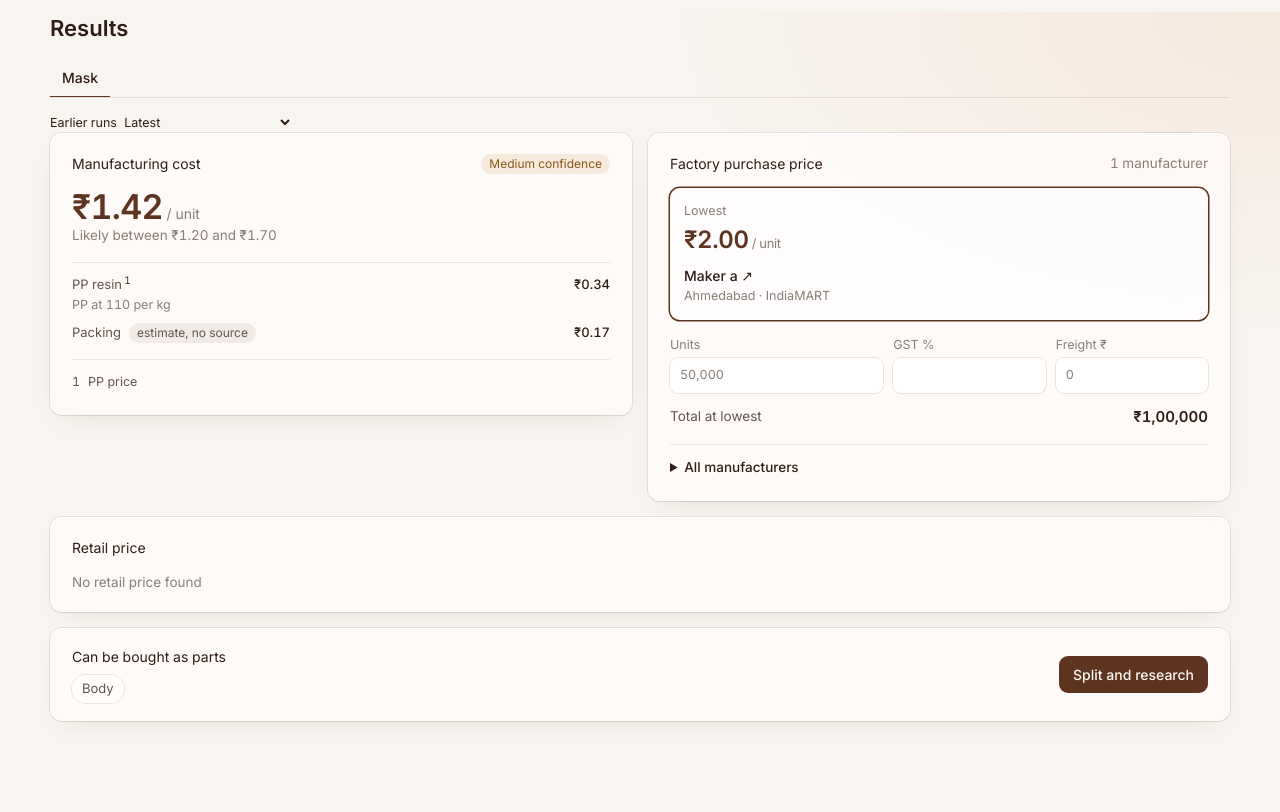
Test: ResultsStep earlier runs › select loads an earlier run read-only; Back to latest returns
This screenshot has width=1280, height=812.
Expected: the button "Split and research" is shown, left=1059, top=656, right=1208, bottom=692
Select "25 Oct, 10:00 am (Failed)" in the dropdown labelled "Earlier runs" at (207, 122), box left=120, top=114, right=293, bottom=131
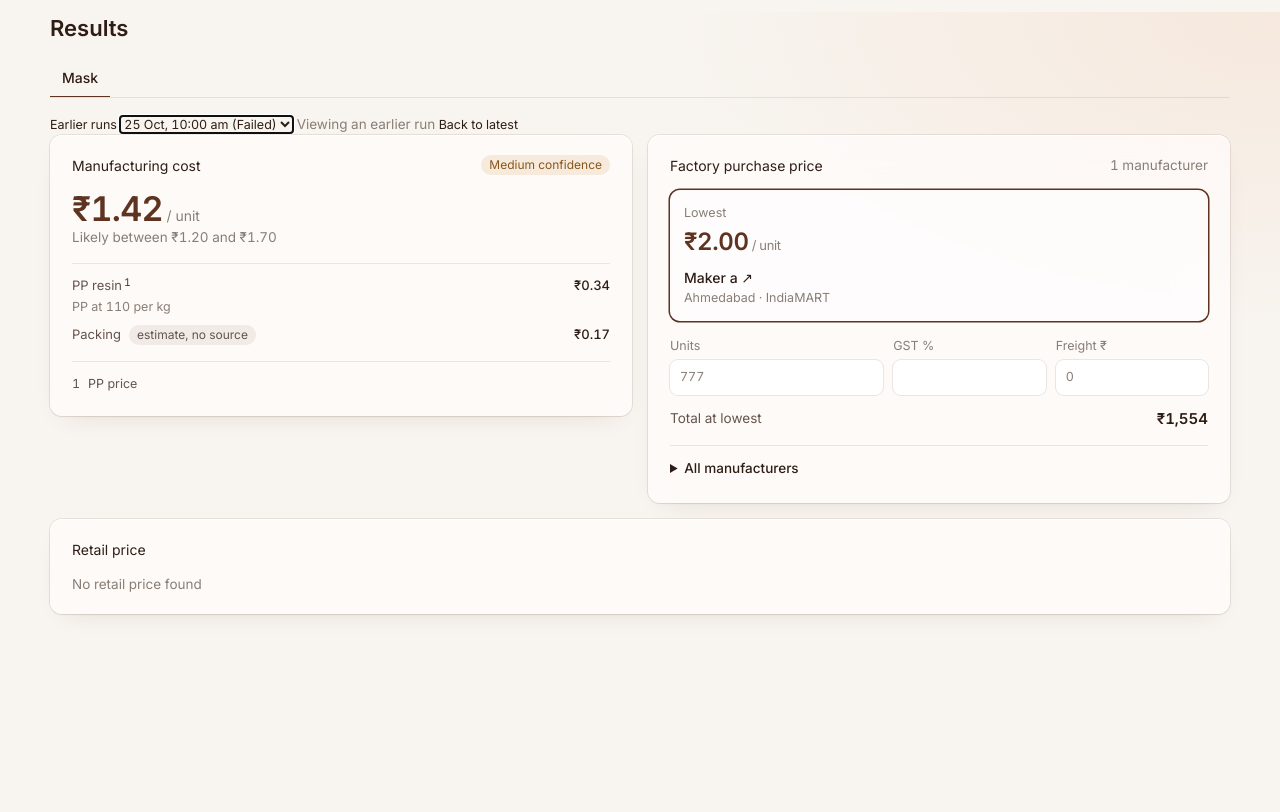
Expected: the text "Viewing an earlier run" is shown, left=297, top=116, right=435, bottom=132
Expected: the button "Split and research" is gone
Click the link "Back to latest" at (478, 124), box left=439, top=117, right=518, bottom=132
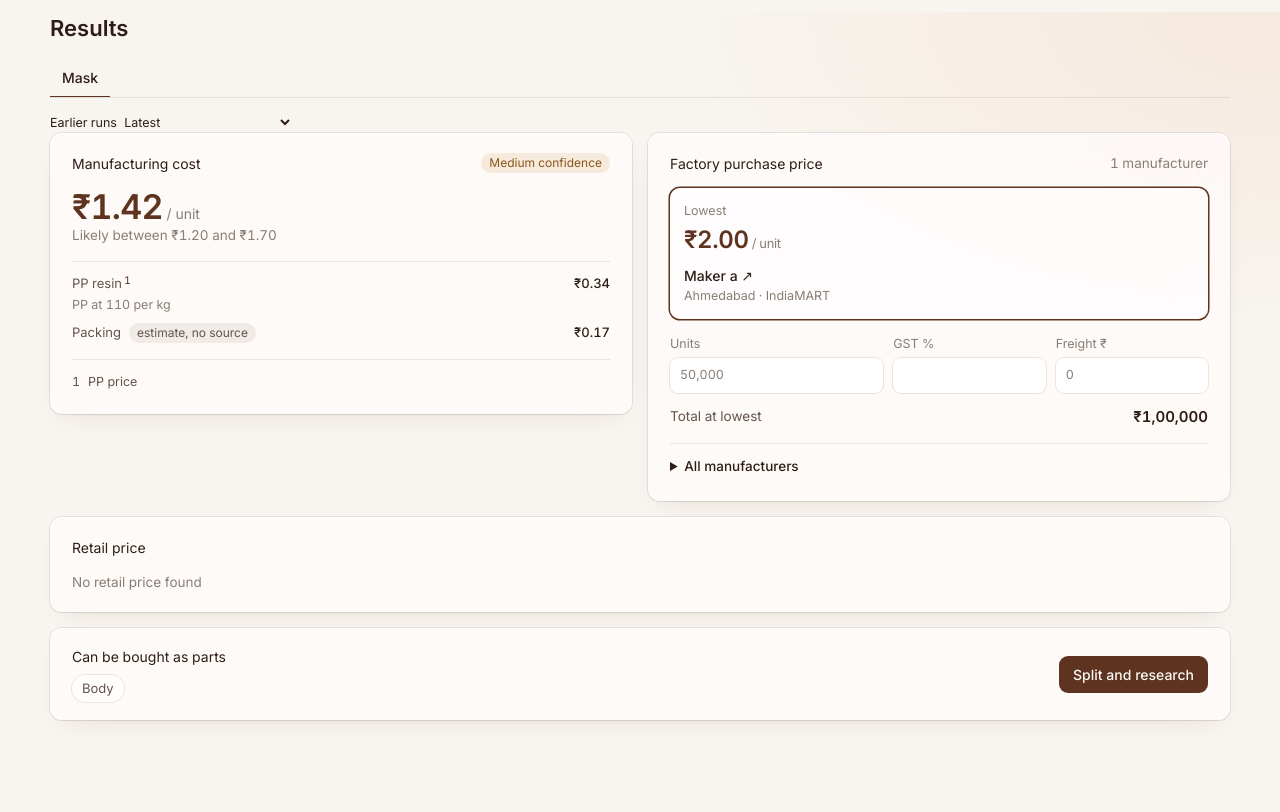
Expected: the text "Viewing an earlier run" is gone
